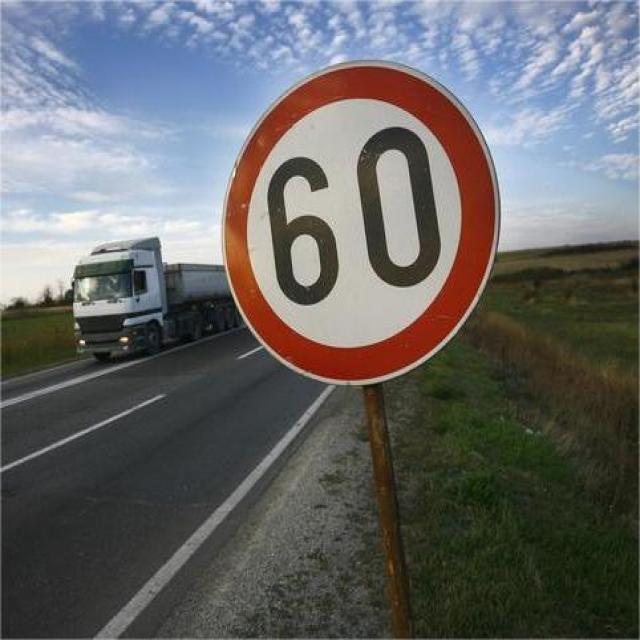speed limit 60: (219, 61, 501, 383)
